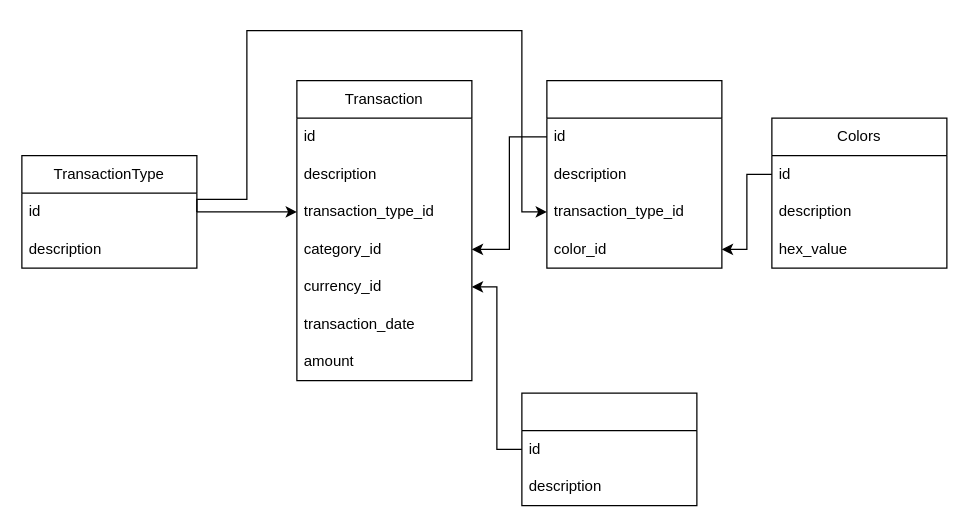
The diagram is 969 pixels wide and 528 high, and some of its shapes have lost their labels. The shapes that lost their labels are listed below. From the top down, each one's box as (x1, y1, x2, y2) in pixels, then its label:
(546, 79, 722, 268): Category
(521, 392, 697, 506): Currency
